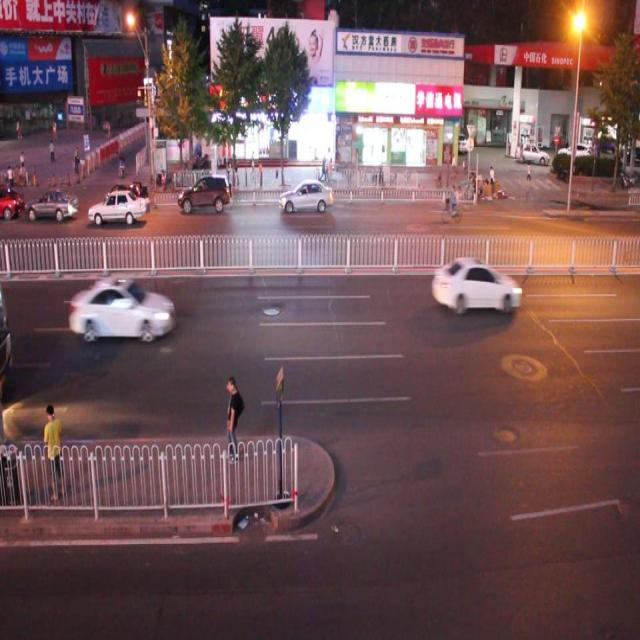car: (67, 277, 176, 344), (428, 254, 521, 315), (88, 186, 146, 226), (280, 173, 334, 215), (176, 171, 231, 212), (26, 185, 80, 222), (101, 180, 145, 223)
